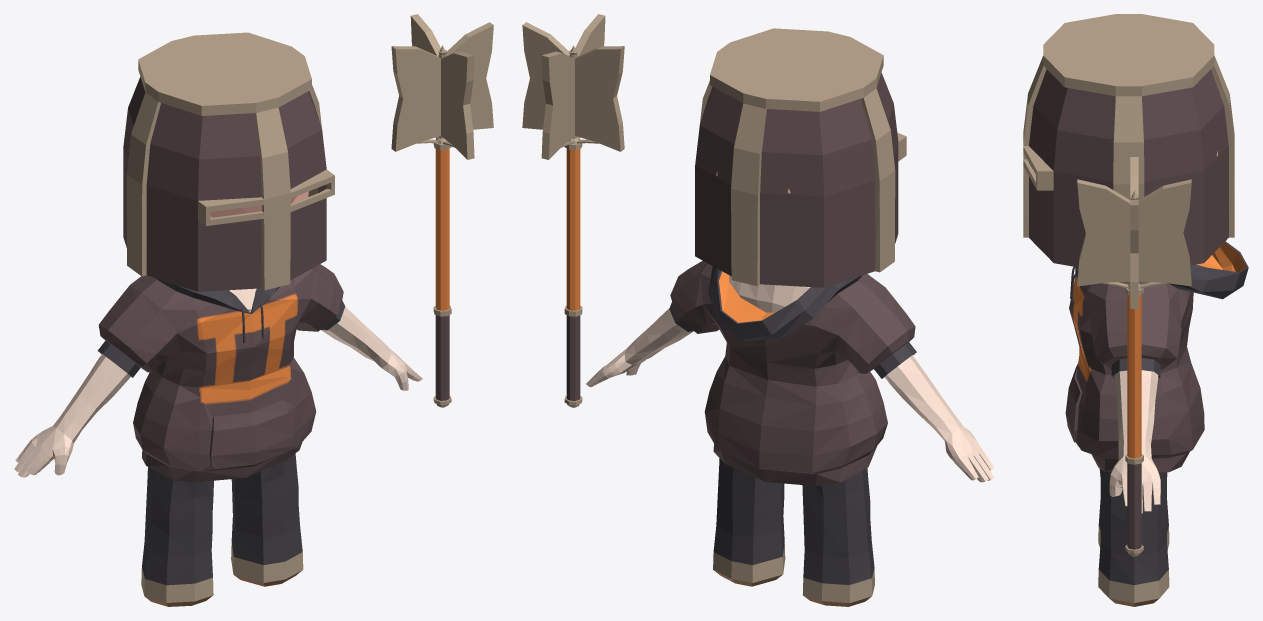
The model's file is Stage3_Idiot1.fbx.
3 views of the same model, side by side, from view 1: azimuth 30°, elevation 25°; view 2: azimuth 150°, elevation 25°; view 3: azimuth 270°, elevation 25° (orthographic).
Parts seen in each view (by area): view 1: REF_Char_Standard1:geoBody; view 2: REF_Char_Standard1:geoBody; view 3: REF_Char_Standard1:geoBody.
Part boxes in pixels (left/top/right/bottom): REF_Char_Standard1:geoBody: left=14, top=14, right=493, bottom=606; REF_Char_Standard1:geoBody: left=522, top=14, right=994, bottom=606; REF_Char_Standard1:geoBody: left=1023, top=14, right=1248, bottom=606.
Size of the model in its own units: 14.49 by 15.23 by 5.96.
